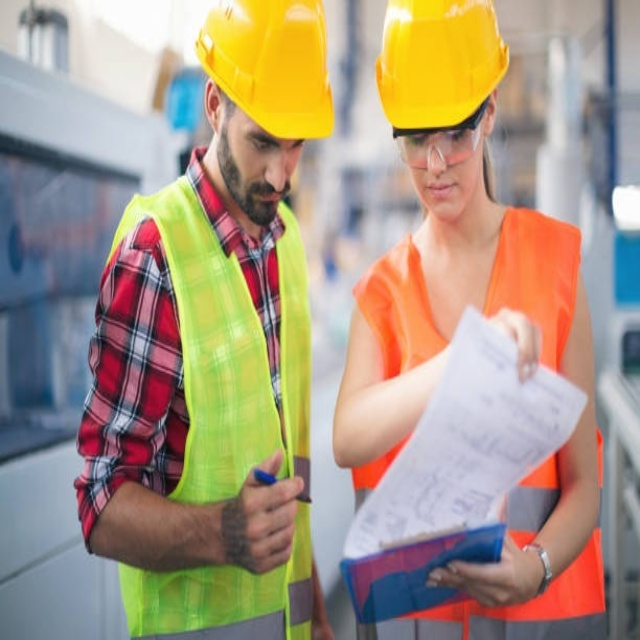Gafas: (390, 97, 492, 168)
Sin_gafas: (241, 125, 307, 163)
Sin_guantes: (430, 505, 541, 612), (226, 445, 307, 577), (490, 306, 542, 382)
Sin_mascara: (249, 177, 291, 220), (421, 176, 463, 213)
